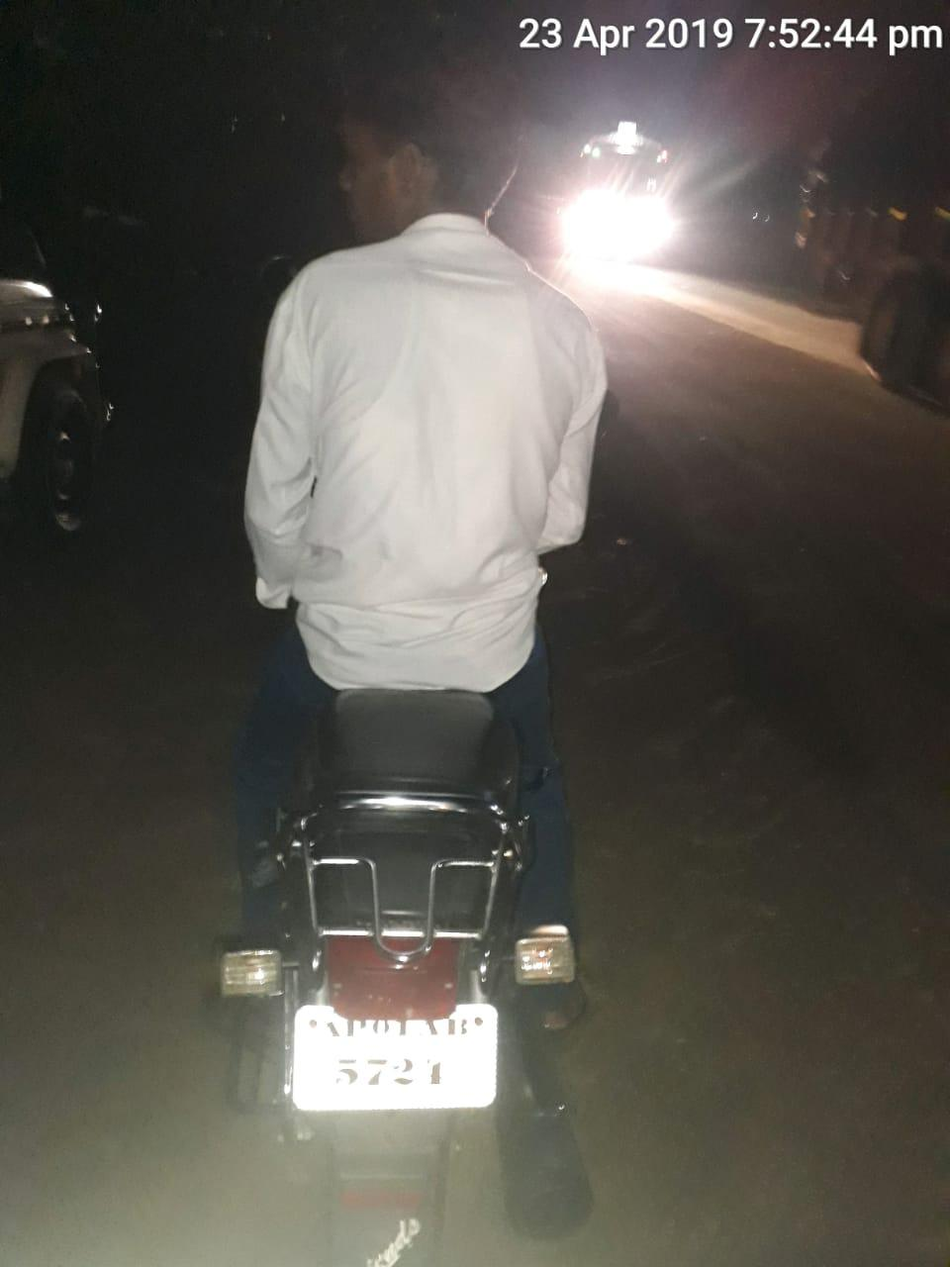plate: (254, 974, 530, 1130)
